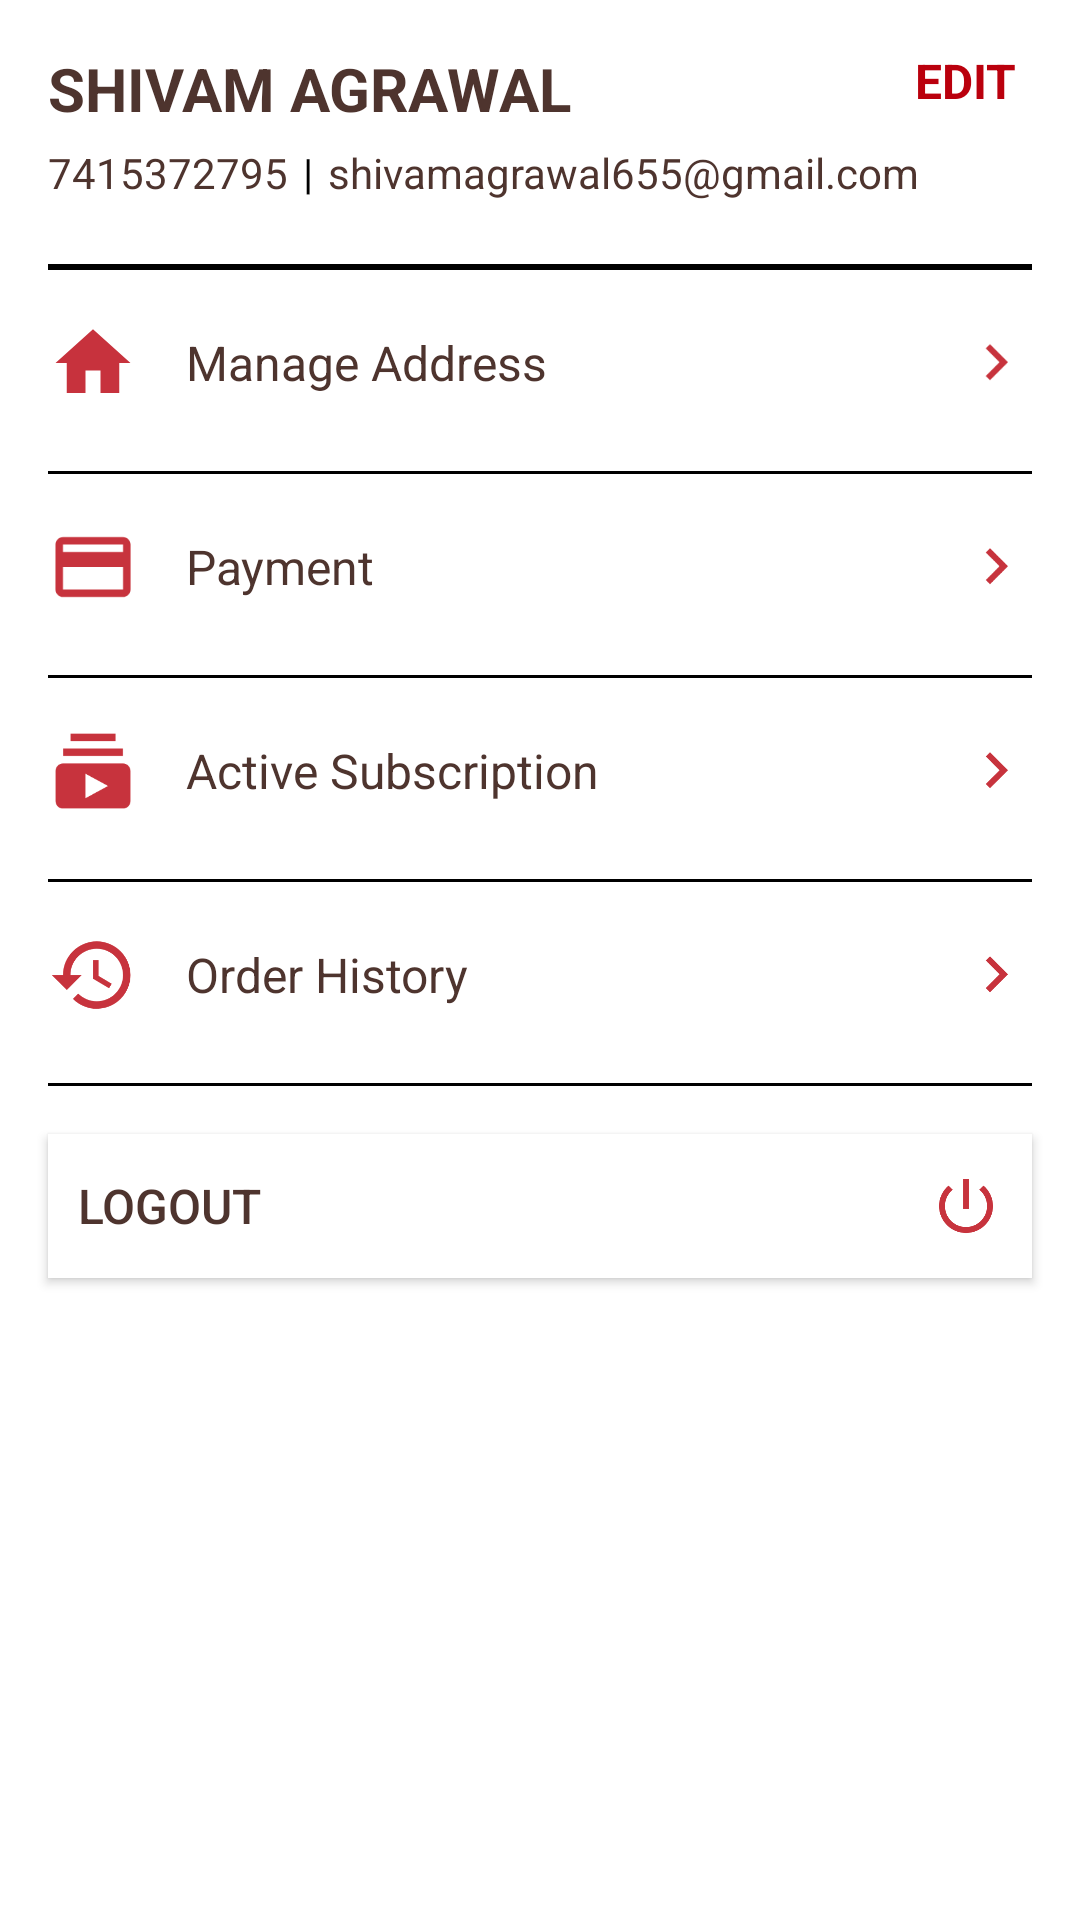

Locate icon controls on the screen. Image size 1080×1920, boxes as bbox(x1, y1, x2, y2).
home: bbox(56, 329, 130, 393)
keyboard arrow right: bbox(985, 344, 1008, 380), bbox(986, 548, 1008, 584), bbox(986, 752, 1008, 788), bbox(986, 956, 1008, 992)
subscriptions: bbox(55, 733, 131, 809)
